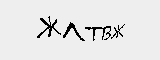В: (100, 24, 112, 44)
Ж: (37, 15, 63, 38), (110, 25, 125, 41)
Л: (61, 22, 83, 43)
Т: (84, 25, 103, 41)
